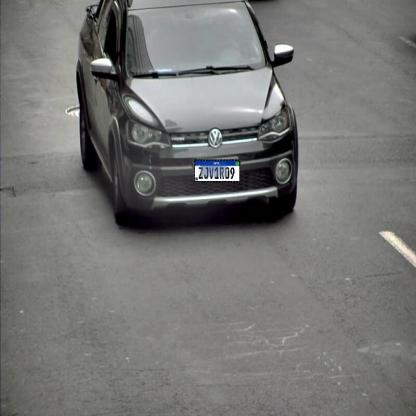PlacaM: (194, 160, 240, 182)
